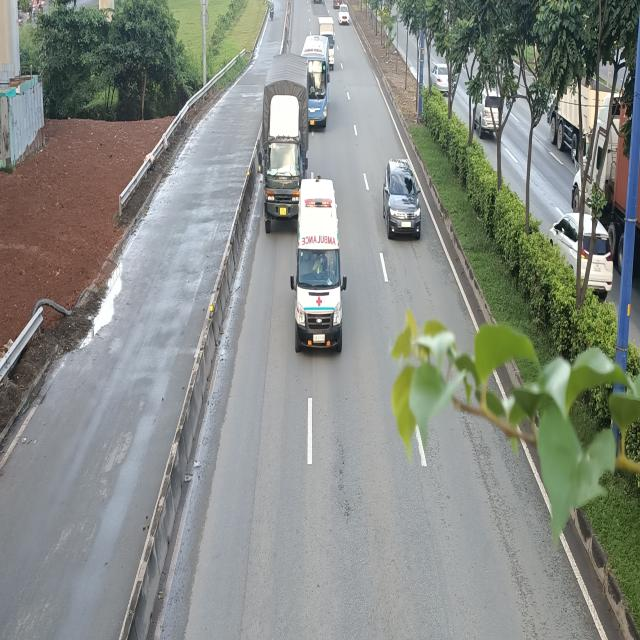car: (384, 160, 424, 241)
coach: (305, 36, 333, 128)
truck: (260, 55, 310, 225)
van: (290, 181, 346, 353)
